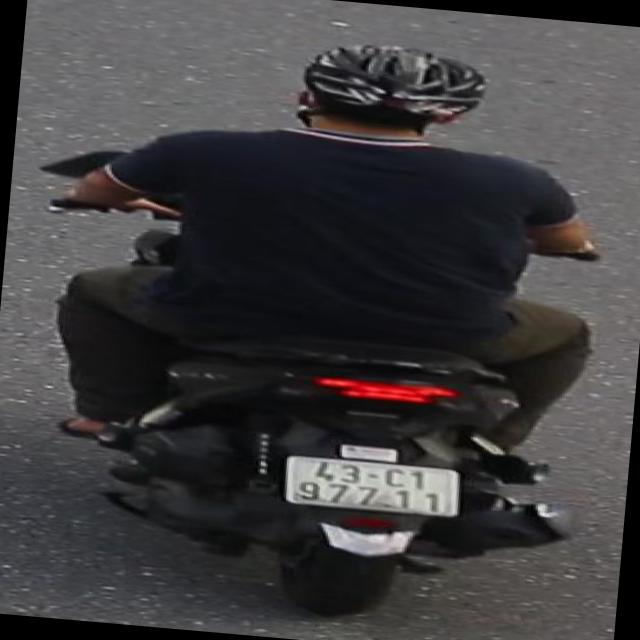LP: (272, 450, 468, 524)
helmet: (280, 28, 496, 156)
